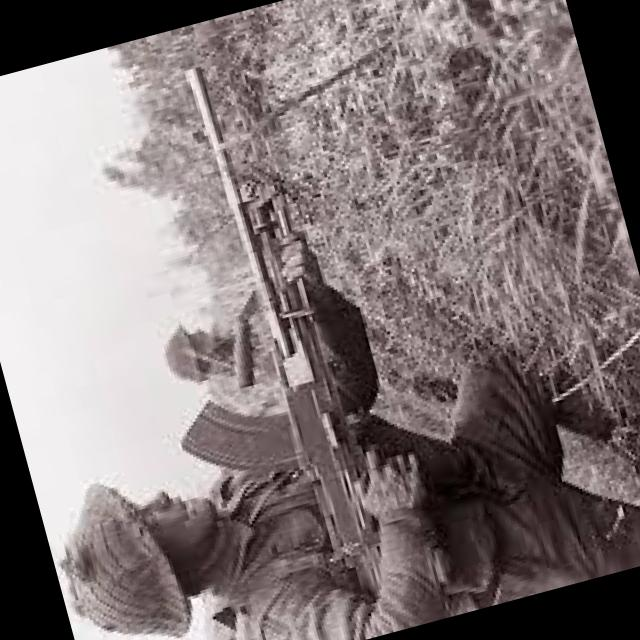long weapon: (96, 22, 452, 639)
